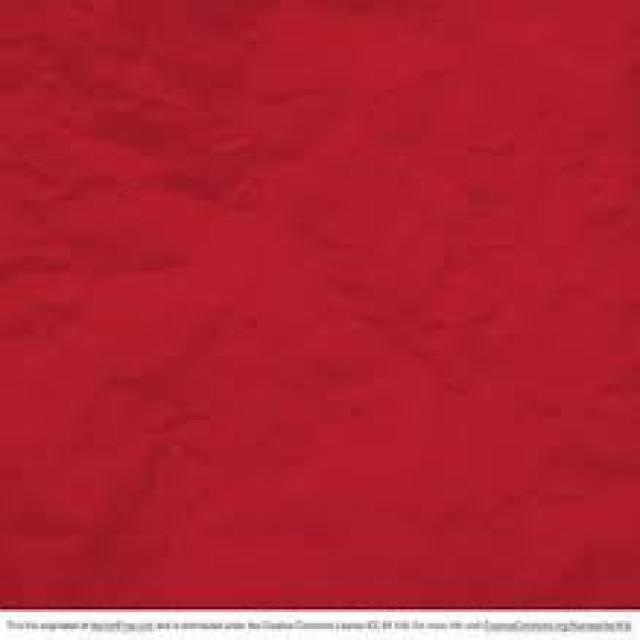paper: (0, 0, 637, 607)
